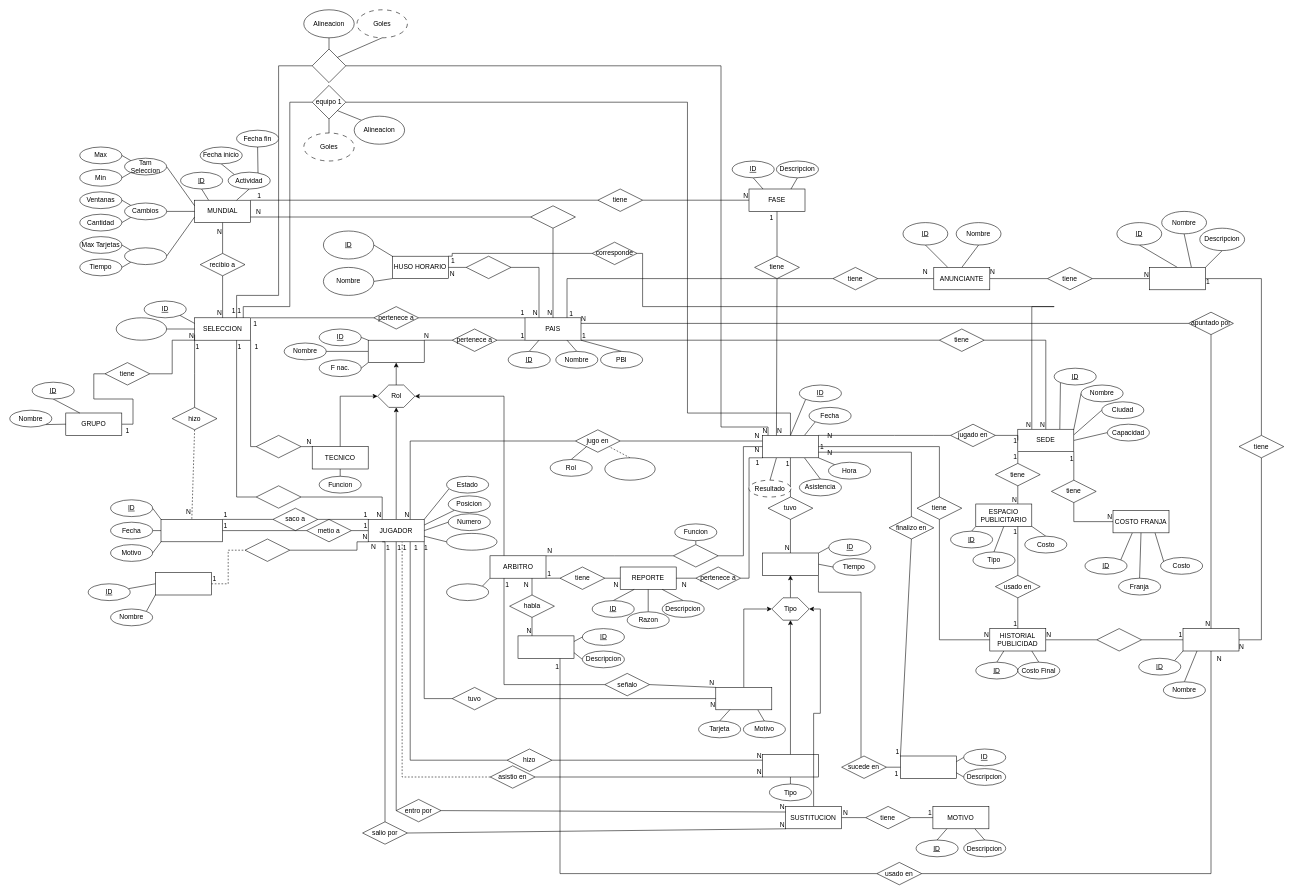
The diagram is 1294 pixels wide and 895 high, and some of its shapes have lost their labels. Each missing label, with the centre of its shape:
"AMONESTACION" belongs at (x=743, y=698).
"CAMBIO_CONVOCATORIA" belongs at (x=191, y=530).
"CAMPAÑA" belongs at (x=1177, y=278).
"Categoria" belongs at (x=467, y=592).
"CLUB" belongs at (x=183, y=583).
"Confederacion" belongs at (x=141, y=328).
"convoco a" belongs at (x=278, y=496).
"equipo 2" belongs at (x=329, y=65).
"EVENTO" belongs at (x=790, y=563).
"GOL" belongs at (x=790, y=765).
"IDIOMA" belongs at (x=545, y=646).
"integra" belongs at (x=278, y=446).
"participa en" belongs at (x=695, y=555).
"PARTIDO" belongs at (x=790, y=446).
"PERIODO" belongs at (x=928, y=766).
"PERSONA" belongs at (x=396, y=351).
"pertenece" belongs at (x=267, y=549).
"posee" belongs at (x=488, y=267).
"Posicion en cancha" belongs at (x=629, y=468).
"PUBLICIDAD" belongs at (x=1210, y=639).
"realizado en" belongs at (x=552, y=216).
"Suspension" belongs at (x=145, y=256).
"Tarjetas Acumuladas" belongs at (x=471, y=541).
"usado por" belongs at (x=1119, y=639).
